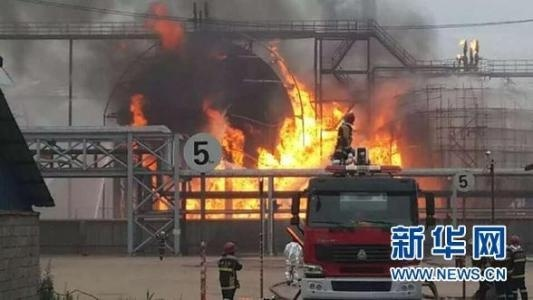fire: (131, 53, 353, 224), (123, 91, 163, 212), (141, 2, 184, 50), (358, 126, 405, 168)
